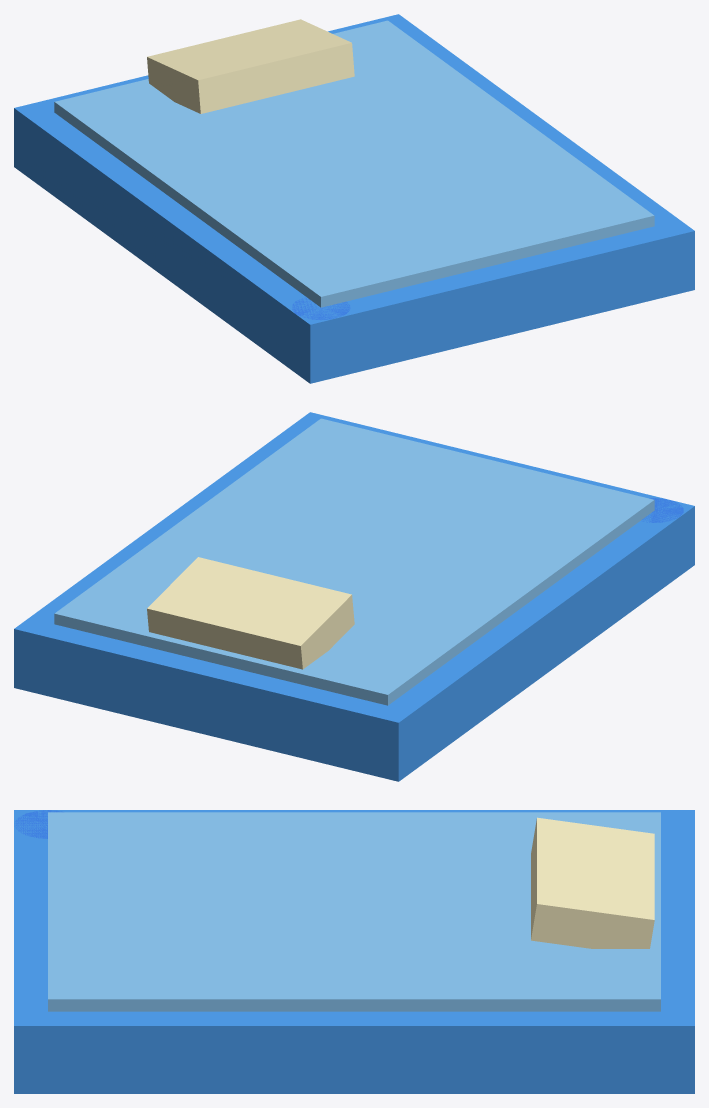
Rendered from mattress_fun_1.glb.
3 views of the same model, one above another, from view 1: azimuth 30°, elevation 25°; view 2: azimuth 150°, elevation 25°; view 3: azimuth 270°, elevation 25° (orthographic). The views are drawn at different scales.
Bounding box in the file's own units: 1.5 × 0.4055 × 2.
